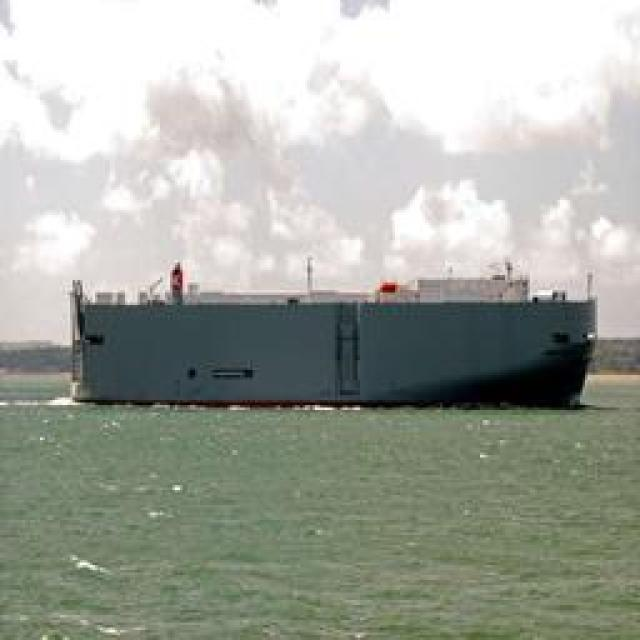ship2: (70, 256, 599, 410)
